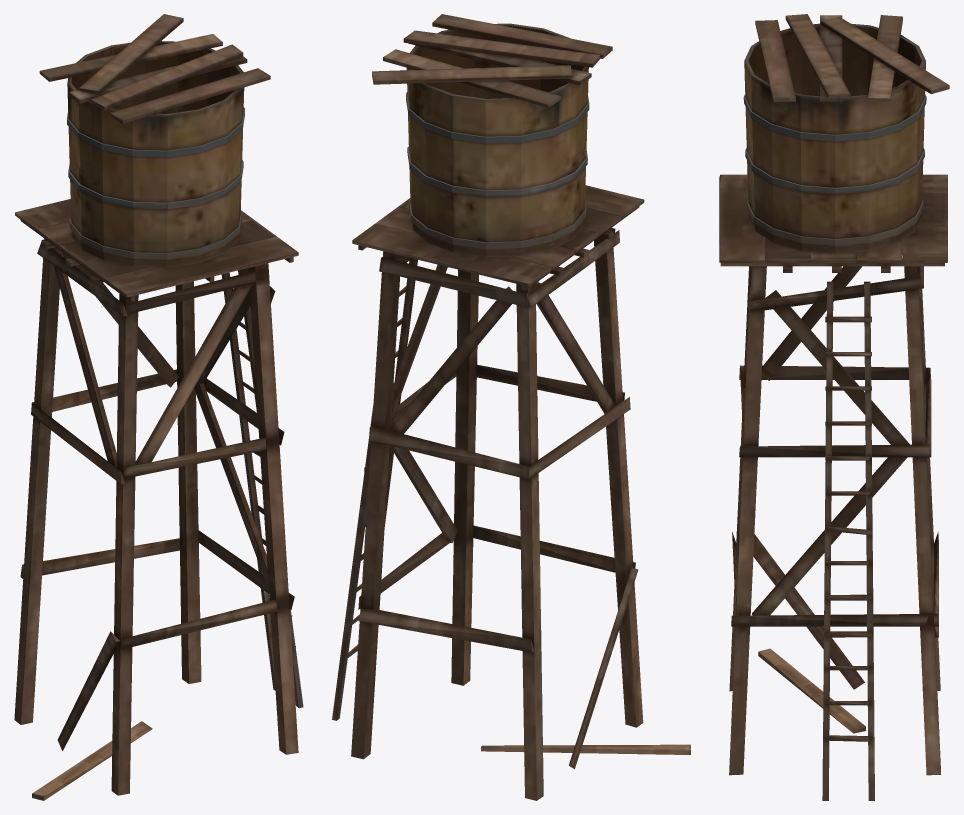
The model's file is tanque_agua.glb.
The picture shows the model from 3 angles, left to right: view 1: azimuth 30°, elevation 25°; view 2: azimuth 150°, elevation 25°; view 3: azimuth 270°, elevation 25°; orthographic projection. The views are drawn at different scales.
Visible parts, largest first — view 1: Water_tower, Water_tower.009, Water_tower.011, Water_tower.001, Water_tower.002, Water_tower.007, Water_tower.010, Water_tower.013, Water_tower.005, Water_tower.004, Water_tower.012, Water_tower.006 (+1 smaller); view 2: Water_tower, Water_tower.009, Water_tower.011, Water_tower.001, Water_tower.007, Water_tower.002, Water_tower.010, Water_tower.013, Water_tower.006, Water_tower.004, Water_tower.012, Water_tower.003; view 3: Water_tower.009, Water_tower, Water_tower.002, Water_tower.011, Water_tower.007, Water_tower.013, Water_tower.010, Water_tower.014, Water_tower.012, Water_tower.003, Water_tower.004, Water_tower.001 (+1 smaller).
Part boxes in pixels (x1=…): Water_tower: x1=14, y1=238, x2=298, y2=795; Water_tower.009: x1=67, y1=41, x2=244, y2=267; Water_tower.011: x1=39, y1=14, x2=270, y2=123; Water_tower.001: x1=20, y1=239, x2=277, y2=649; Water_tower.002: x1=31, y1=240, x2=294, y2=800; Water_tower.007: x1=15, y1=199, x2=298, y2=297; Water_tower.010: x1=67, y1=107, x2=244, y2=259; Water_tower.013: x1=221, y1=271, x2=303, y2=708; Water_tower.005: x1=135, y1=272, x2=252, y2=465; Water_tower.004: x1=54, y1=250, x2=116, y2=467; Water_tower.012: x1=194, y1=380, x2=268, y2=589; Water_tower.006: x1=62, y1=252, x2=178, y2=387; Water_tower: x1=351, y1=227, x2=643, y2=800; Water_tower.009: x1=406, y1=23, x2=588, y2=257; Water_tower.011: x1=372, y1=14, x2=612, y2=107; Water_tower.001: x1=358, y1=228, x2=635, y2=652; Water_tower.007: x1=352, y1=185, x2=644, y2=286; Water_tower.002: x1=358, y1=230, x2=690, y2=769; Water_tower.010: x1=406, y1=92, x2=589, y2=248; Water_tower.013: x1=332, y1=258, x2=417, y2=720; Water_tower.006: x1=388, y1=286, x2=512, y2=433; Water_tower.004: x1=535, y1=282, x2=615, y2=413; Water_tower.012: x1=390, y1=422, x2=457, y2=542; Water_tower.003: x1=391, y1=264, x2=447, y2=420; Water_tower.009: x1=744, y1=23, x2=925, y2=253; Water_tower: x1=729, y1=266, x2=940, y2=775; Water_tower.002: x1=731, y1=276, x2=938, y2=733; Water_tower.011: x1=755, y1=14, x2=949, y2=102; Water_tower.007: x1=719, y1=174, x2=947, y2=262; Water_tower.013: x1=822, y1=281, x2=874, y2=800; Water_tower.010: x1=743, y1=94, x2=926, y2=245; Water_tower.014: x1=825, y1=316, x2=872, y2=741; Water_tower.012: x1=752, y1=457, x2=907, y2=615; Water_tower.003: x1=765, y1=290, x2=909, y2=444; Water_tower.004: x1=762, y1=252, x2=861, y2=380; Water_tower.001: x1=732, y1=266, x2=938, y2=637.
Bounding box in the file's own units: 3.01 × 6.46 × 1.99.
Materials: 1 (1 with a texture image).
